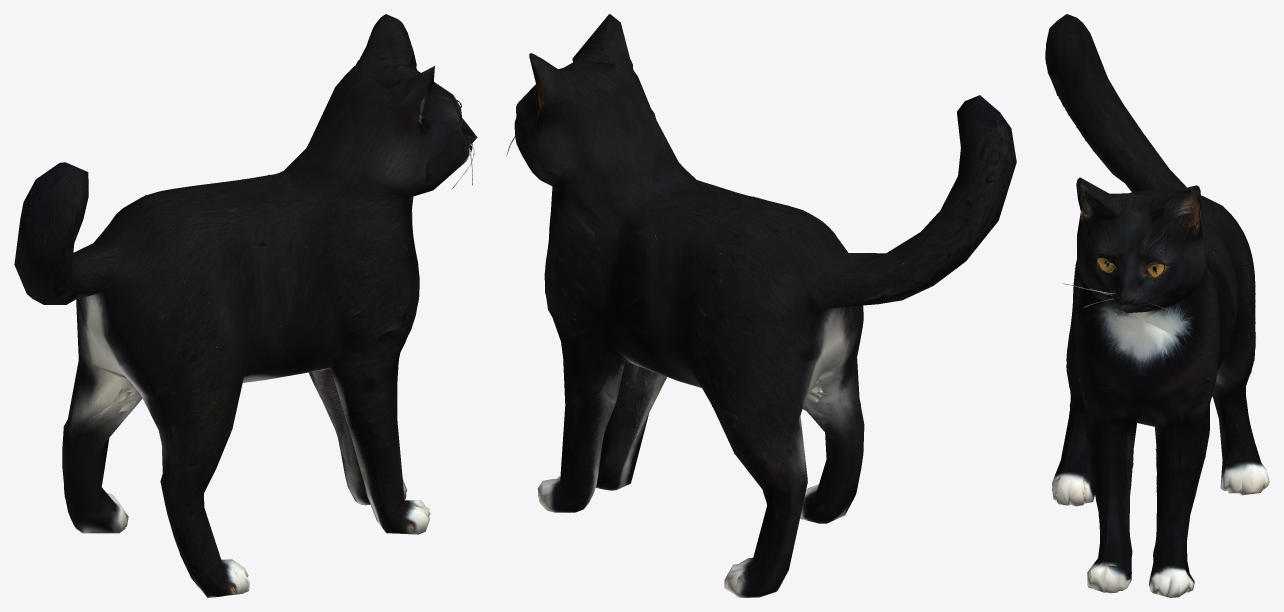
File: TRIMCAT.glb
The picture shows the model from 3 angles, left to right: view 1: azimuth 30°, elevation 25°; view 2: azimuth 150°, elevation 25°; view 3: azimuth 270°, elevation 25°; orthographic projection. The views are drawn at different scales.
Parts seen in each view (by area): view 1: fit; view 2: fit; view 3: fit.
Boxes of the visible parts, x1=… form: fit: x1=14, y1=14, x2=477, y2=597; fit: x1=506, y1=14, x2=1016, y2=597; fit: x1=1045, y1=14, x2=1269, y2=597.
Size of the model in its own units: 1.07 by 1 by 0.4912.
1 material, 1 textured.
